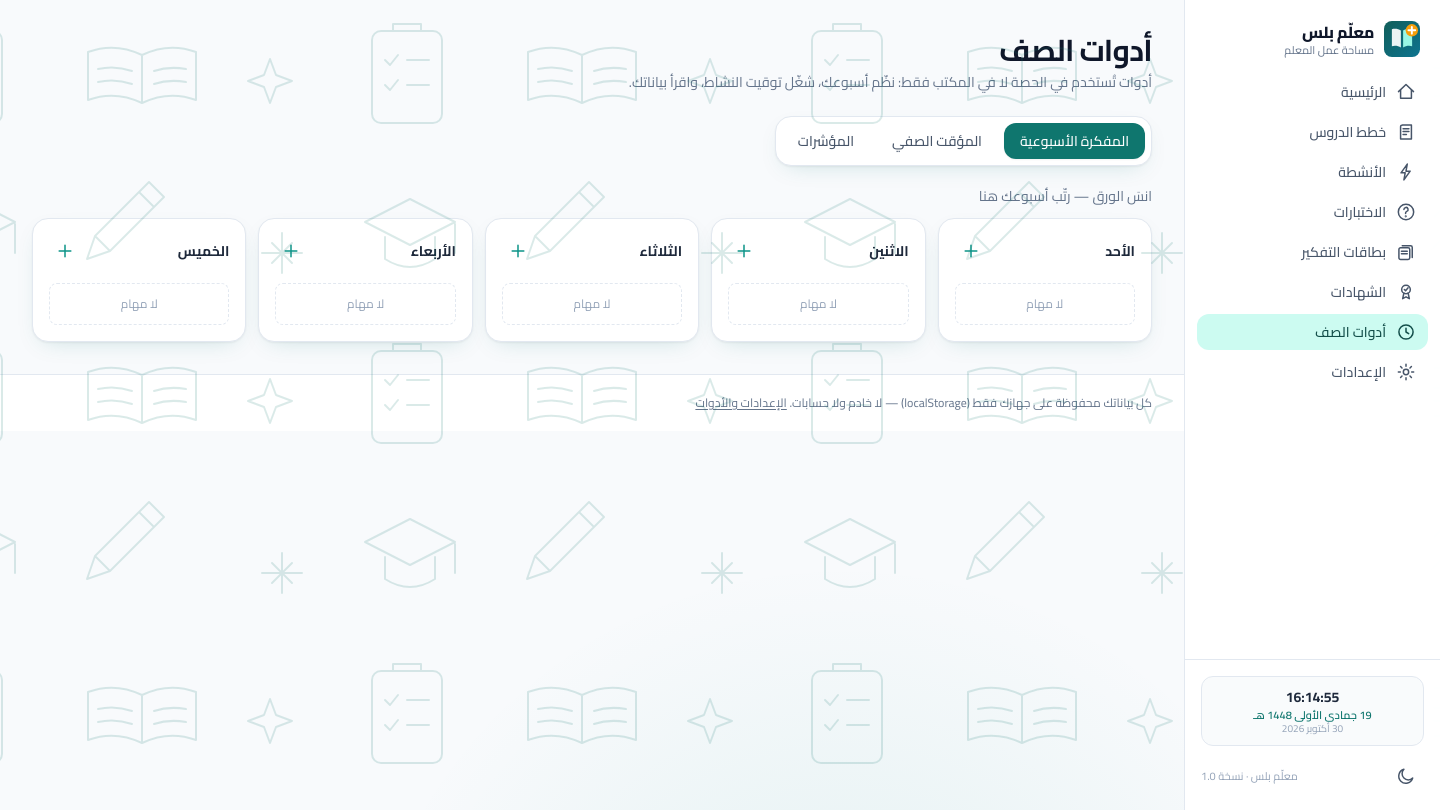
Test: المفكرة الأسبوعية › تطلب عنوانًا للمهمة (تحقق من صحة النموذج)
Click the button named "إضافة مهمة في يوم الأحد".
click(971, 251)  # box [955,235,987,267]
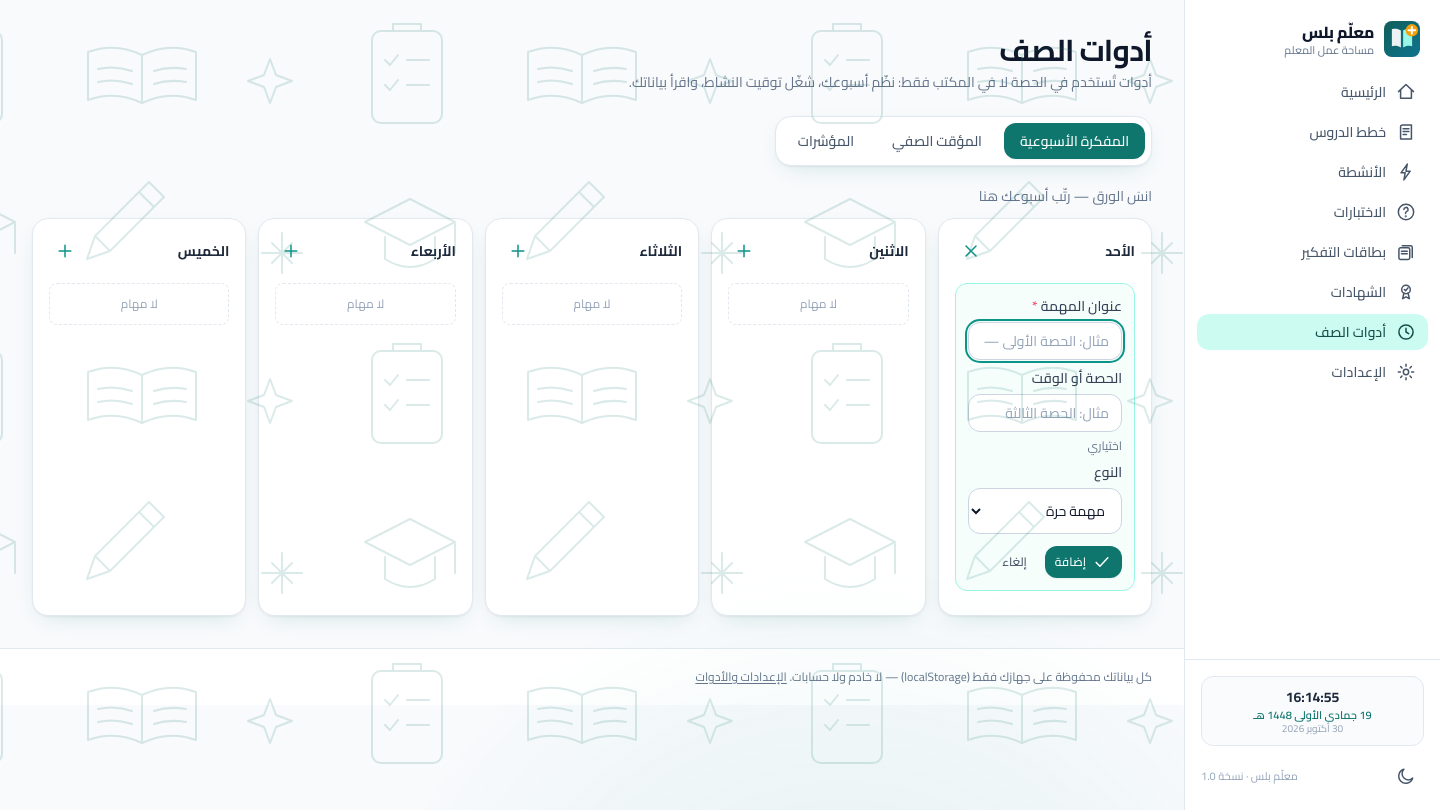
Click the button "إضافة".
click(1083, 562)  # box [1045,546,1122,578]
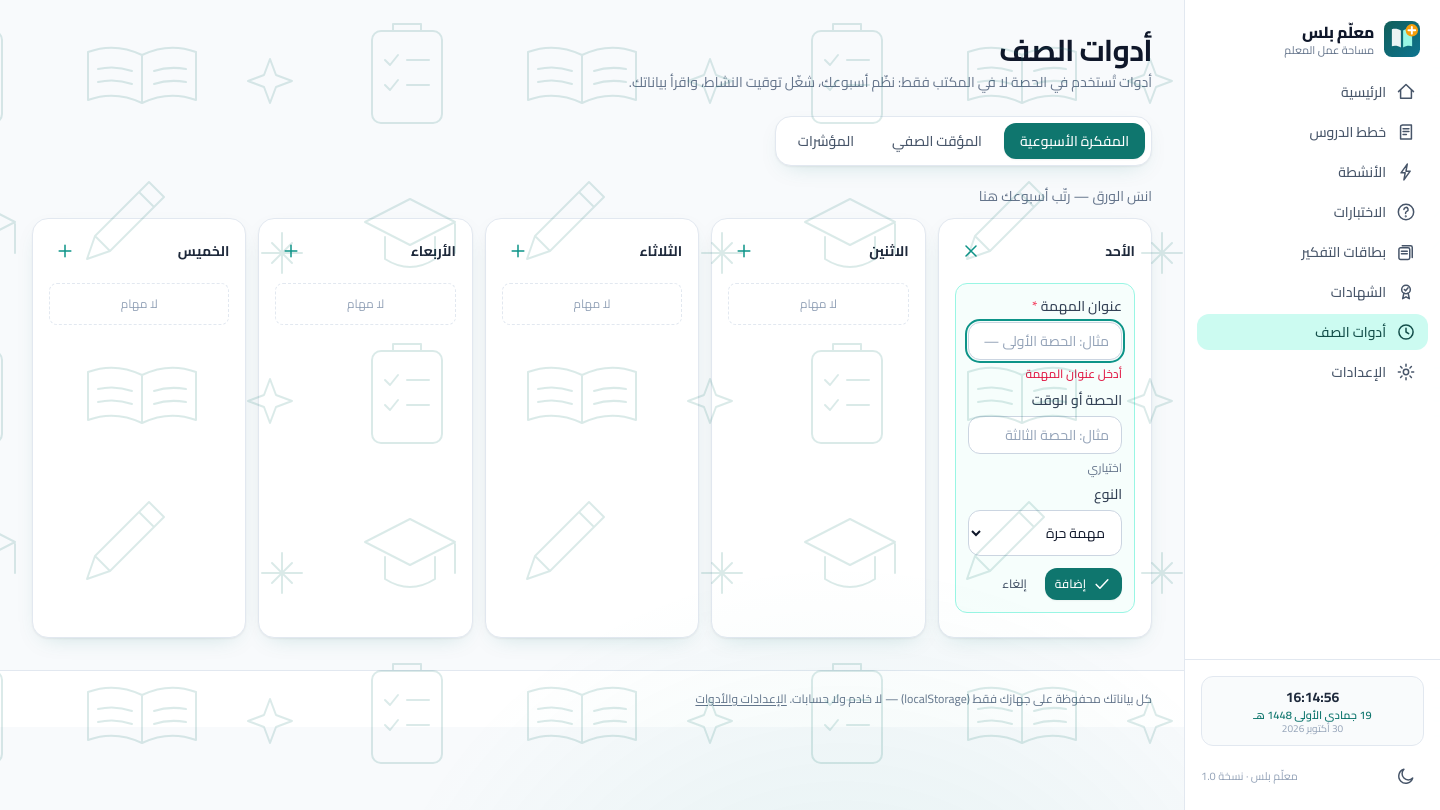
expect the text "أدخل عنوان المهمة" is shown: met, box [1026,362,1122,385]
